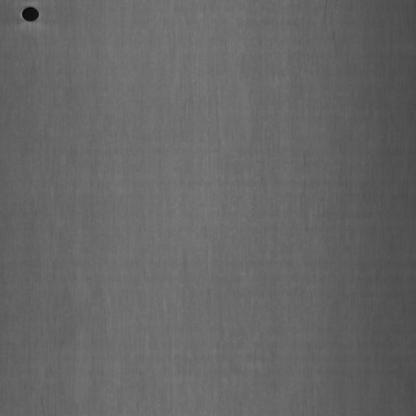punching_hole: (18, 3, 42, 24)
